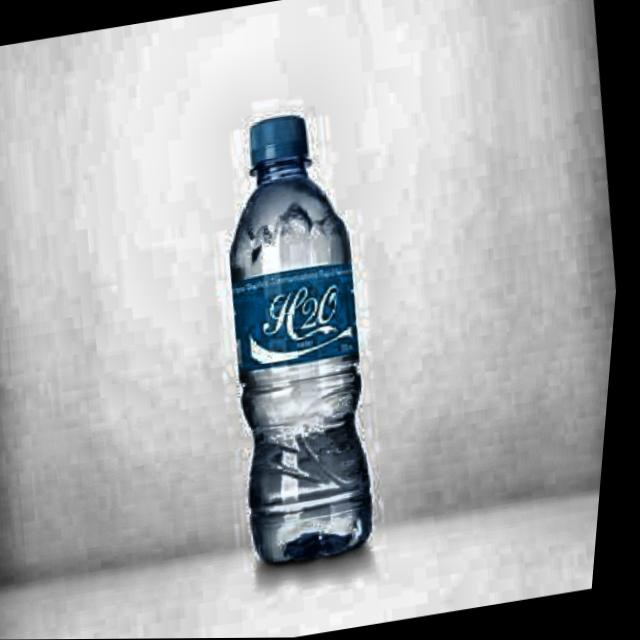Bottles: (178, 91, 437, 588)
